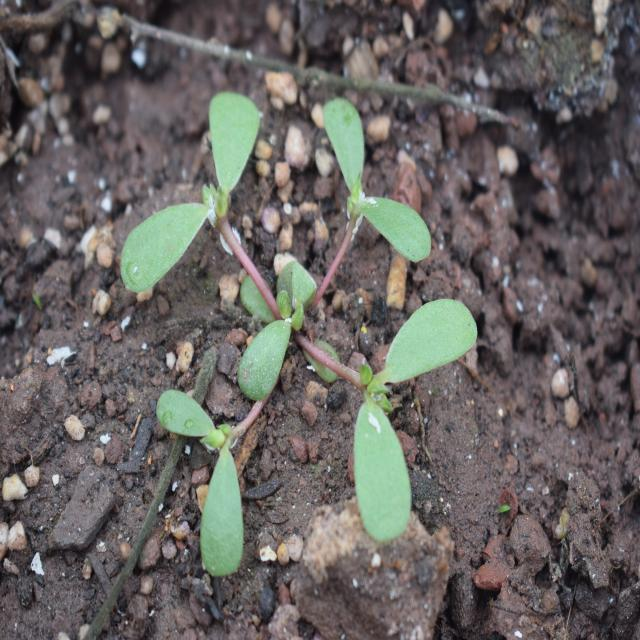purslane: (120, 68, 449, 532)
